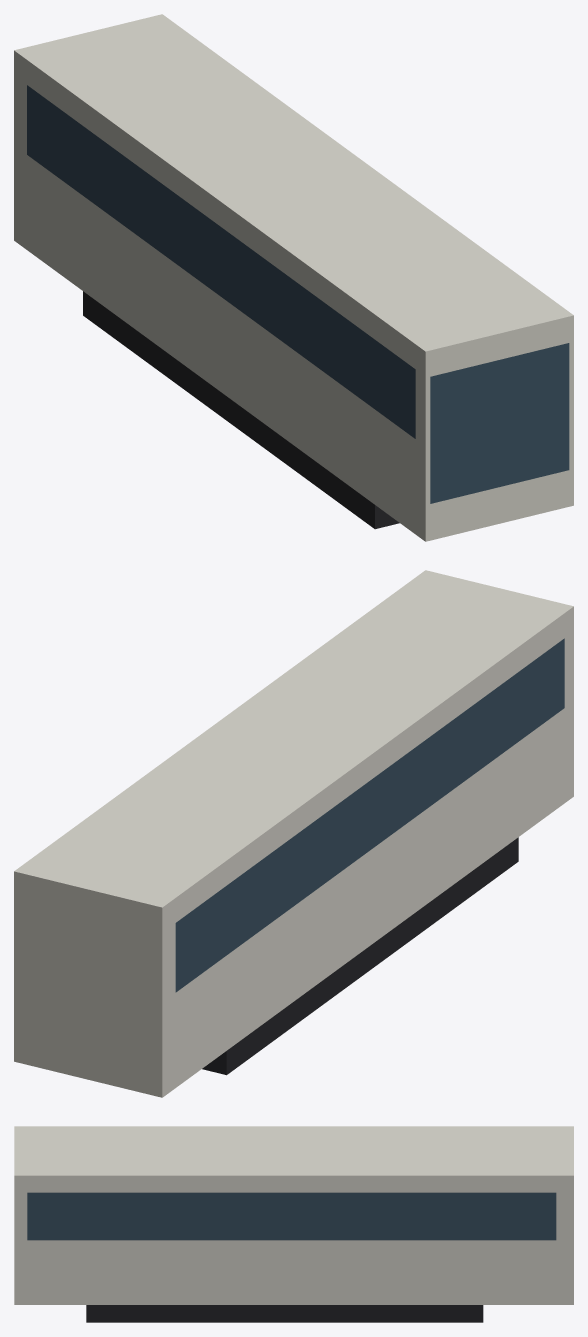
Rendered from 365_far.fbx.
The picture shows the model from 3 angles, top to bottom: view 1: azimuth 30°, elevation 25°; view 2: azimuth 150°, elevation 25°; view 3: azimuth 270°, elevation 25°; orthographic projection. The views are drawn at different scales.
Visible parts, largest first — view 1: 365_far; view 2: 365_far; view 3: 365_far.
Boxes of the visible parts, x1,y1,x2,y2 form: 365_far: (14, 14, 573, 541); 365_far: (14, 570, 573, 1097); 365_far: (14, 1126, 573, 1322).
Bounding box in the file's own units: 2.5 × 3.48 × 11.96.
